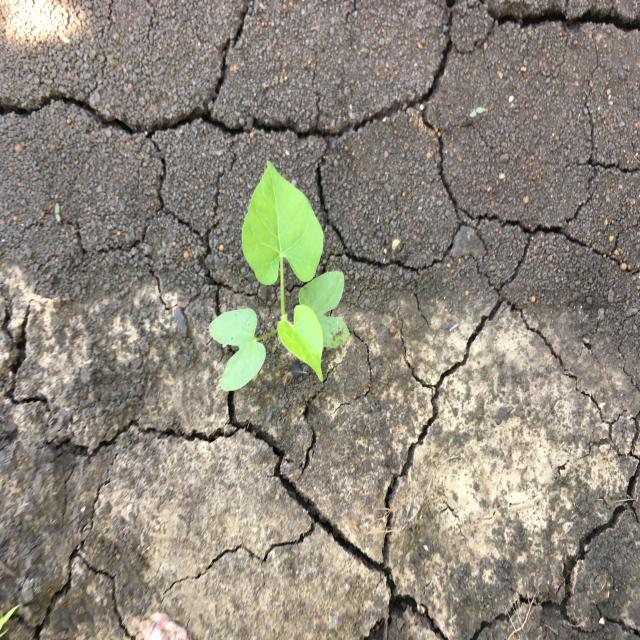MorningGlory: (206, 157, 352, 396)
